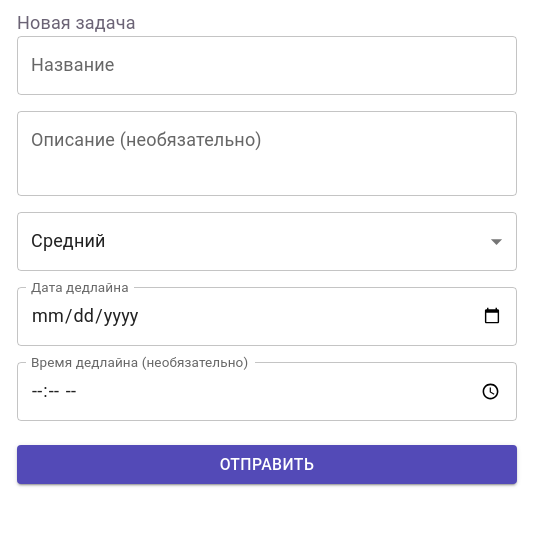
Test: AddTask › показывает ошибку если поле названия пустое
Click the button "Отправить" at (267, 464), box x1=17 y1=444 x2=517 y2=484
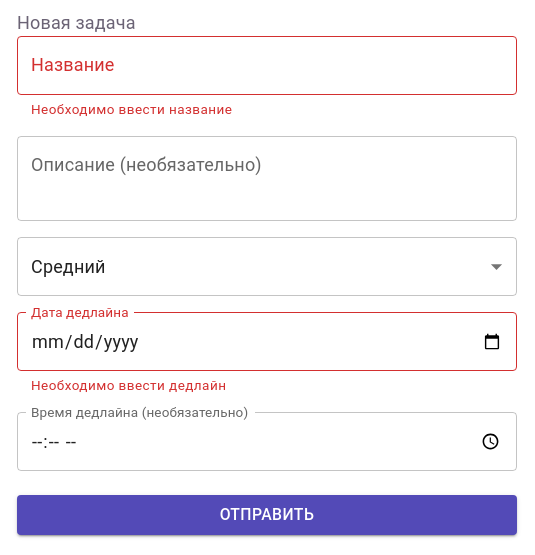
Expected: the text "Необходимо ввести название" is shown, x1=31 y1=101 x2=232 y2=117
